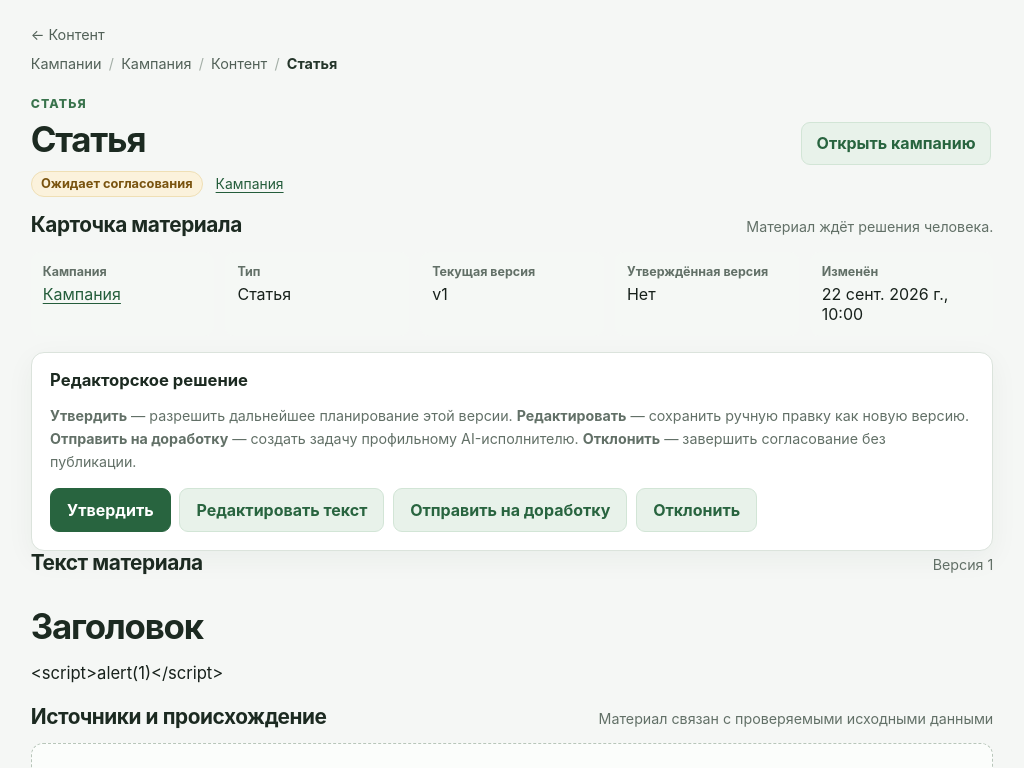
Test: Content and approvals UI › saves a manual edit as a separate version without approving it
The image size is (1024, 768).
Expected: the heading "Статья" is shown, [31,118,145,160]
Step 1. Click the button "Редактировать текст" → {"x": 282, "y": 510}, box [179,488,384,532]
(page scrolled)
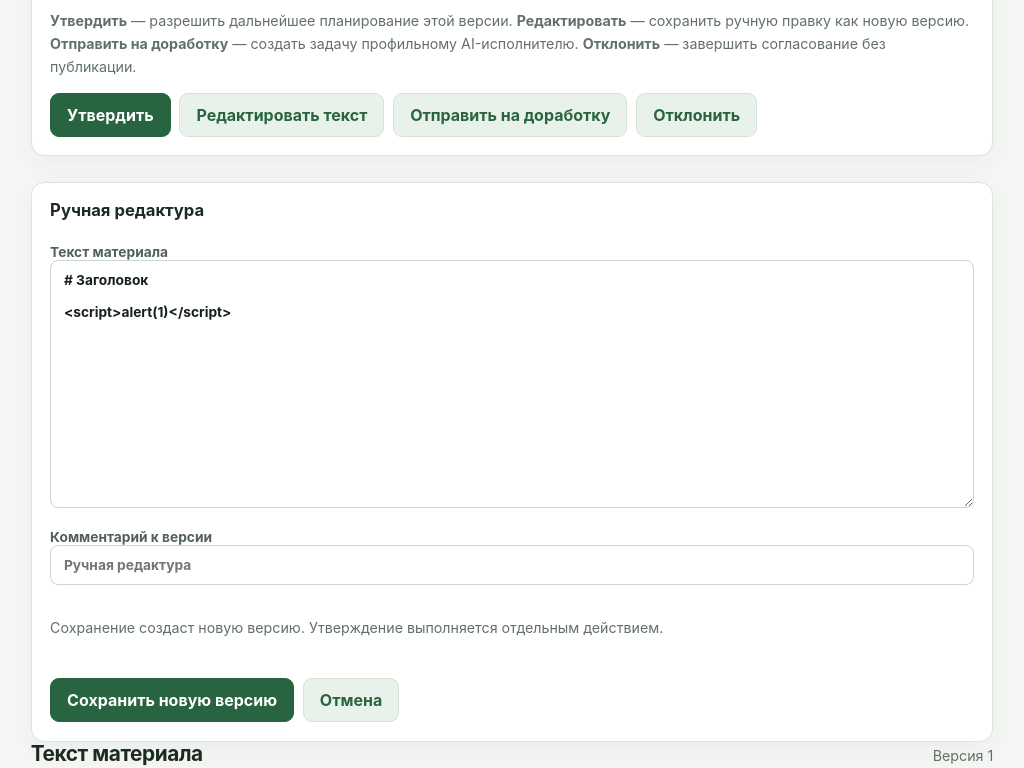
Step 2. Replace the text in the text box labelled "Текст материала" with "Новая редакция" → {"x": 512, "y": 384}, box [50,260,974,508]
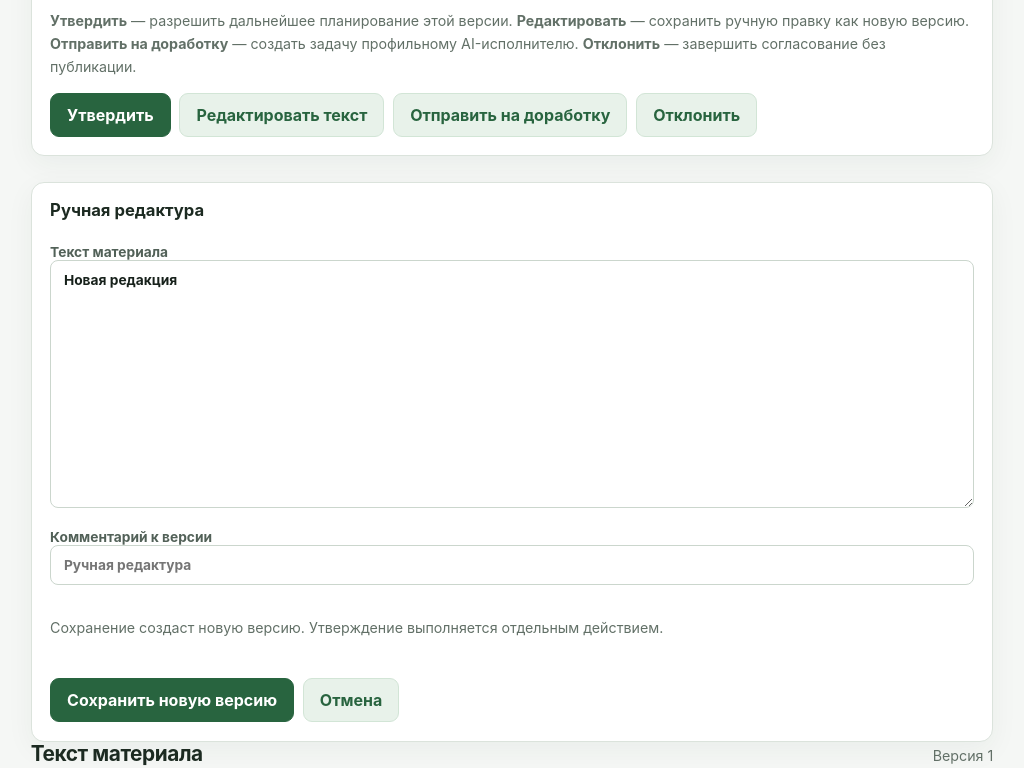
Step 3. Type "Уточнён вывод" into the field labelled "Комментарий к версии" → {"x": 512, "y": 565}, box [50,545,974,585]
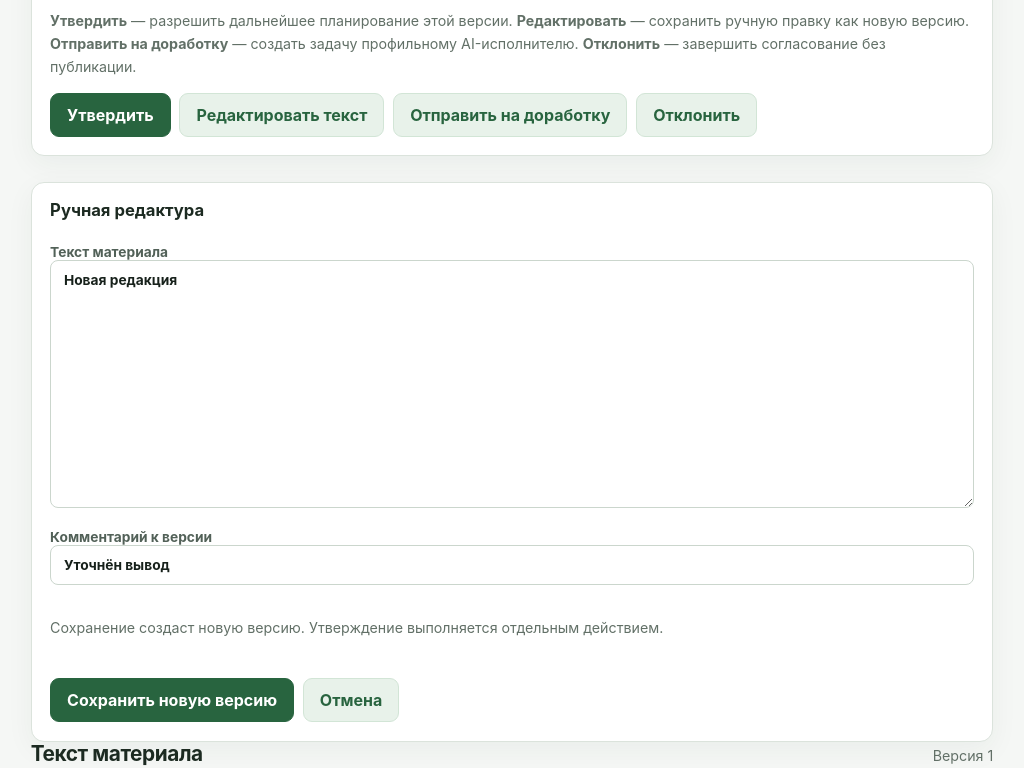
Step 4. Click the button "Сохранить новую версию" → {"x": 172, "y": 700}, box [50,678,294,722]
(page scrolled)
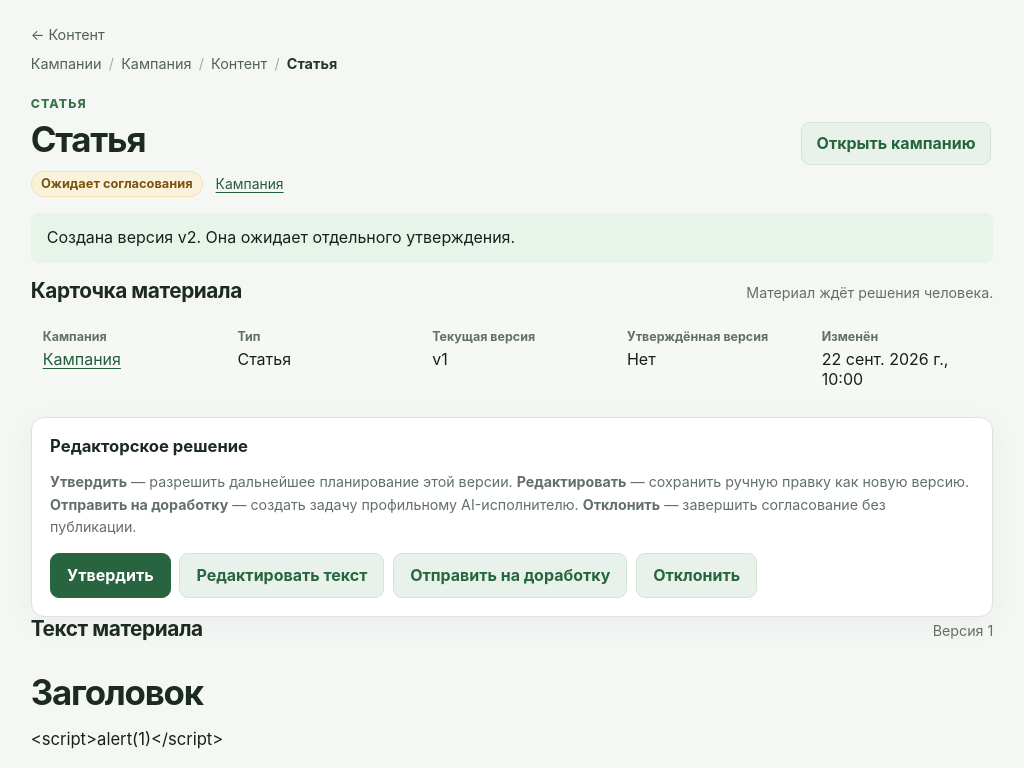
Result: the text "Создана версия v2. Она ожидает отдельного утверждения." is shown at [31,213,993,263]
